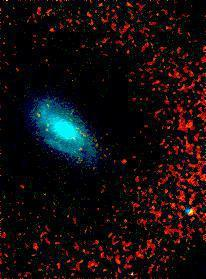star: (109, 147, 139, 177)
